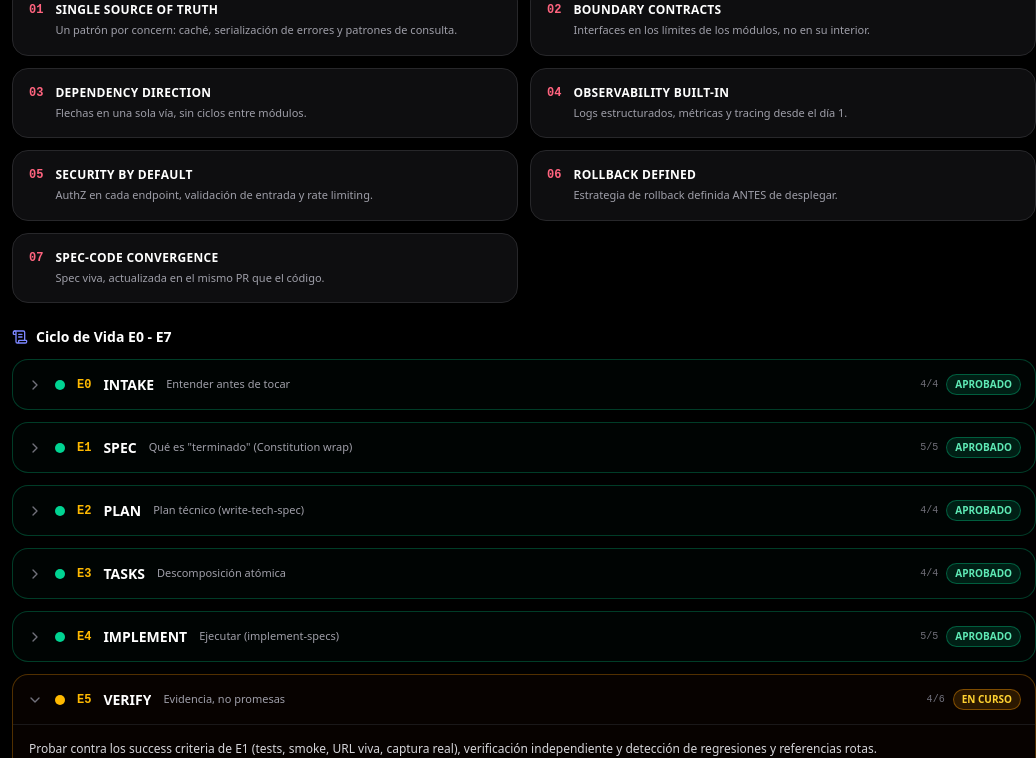
Scenario: SddMaestroView — checklist state machine (P3) › demotes a passed gate when an item is unchecked
The image size is (1036, 758).
(page scrolled)
What coordinates should you click on to do the following:
click the button "E0 INTAKE Entender antes de tocar 4/4 Aprobado"
I would click on:
 (129, 384)
Its box is [27,374,1021,395].
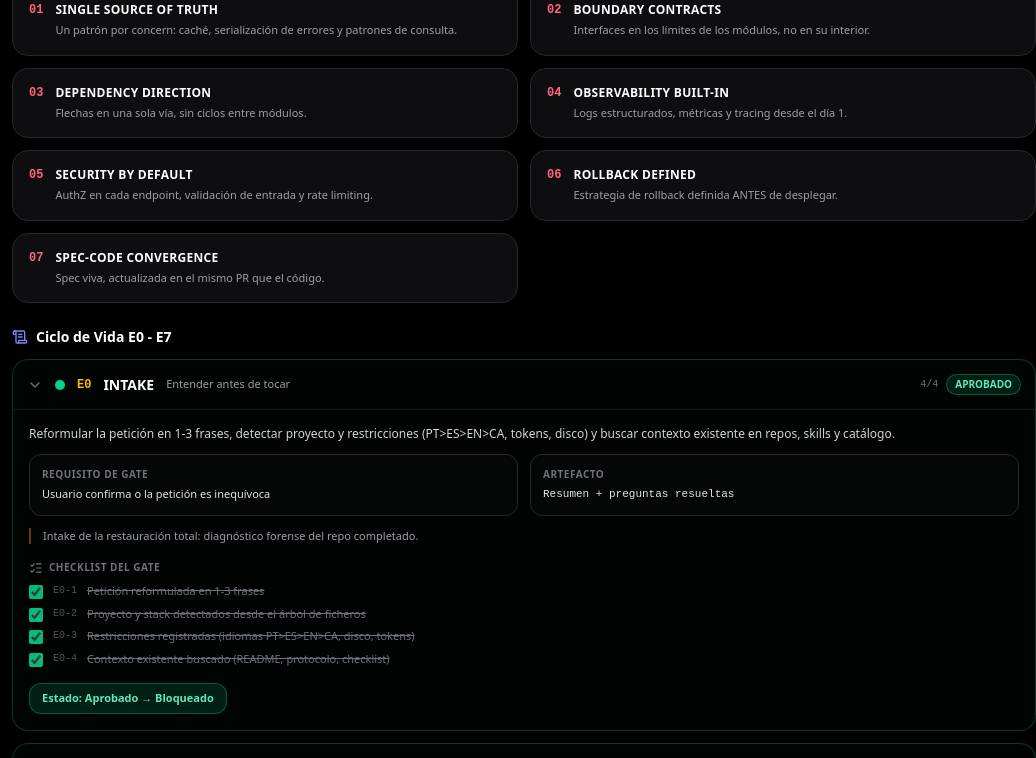
What coordinates should you click on to do the following:
click the checkbox labelled "E0-1 Petición reformulada en 1-3 frases"
I would click on:
 (36, 592)
Its box is [29,585,43,599].
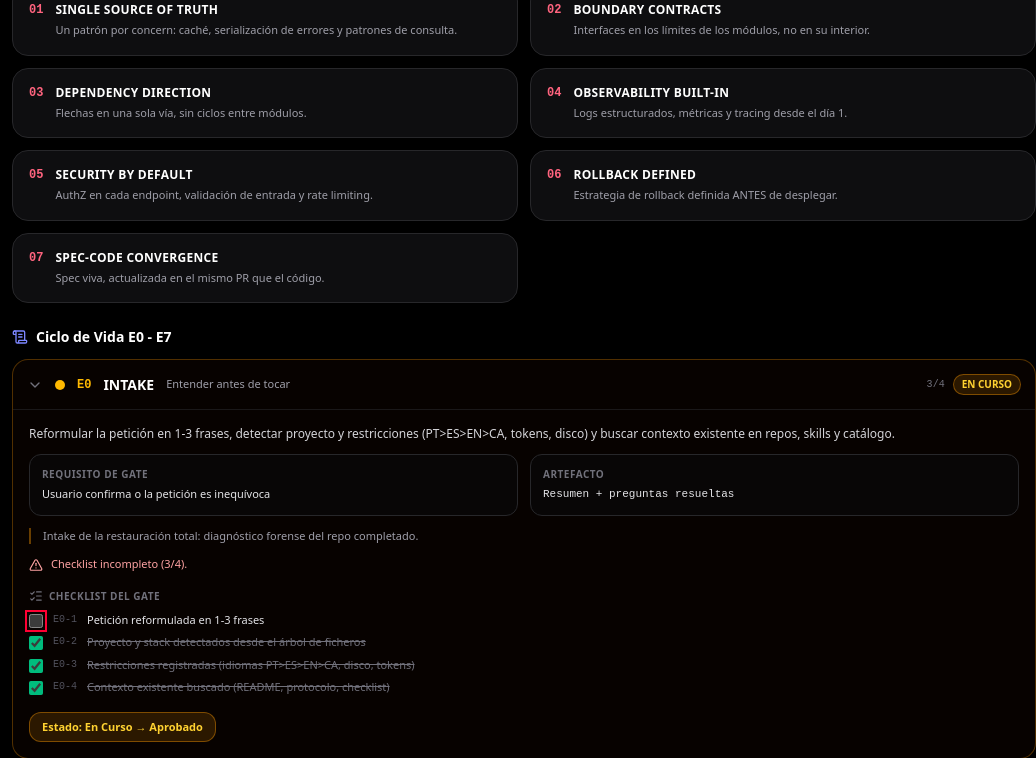
Check: the checkbox labelled "E0-1 Petición reformulada en 1-3 frases" is not checked, box [29,614,43,628]
Check: the list item that starts with "INTAKE" shows "En Curso", box [27,374,1021,395]
